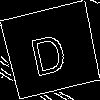D: (26, 25, 69, 78)
